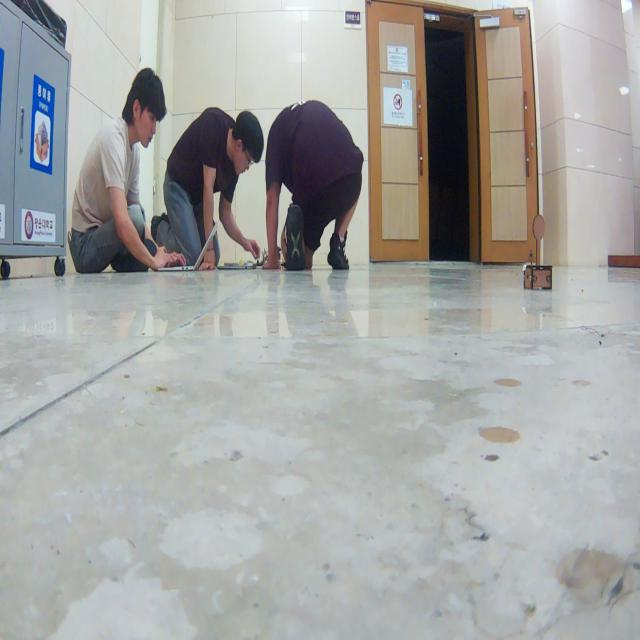target: (522, 213, 552, 290)
